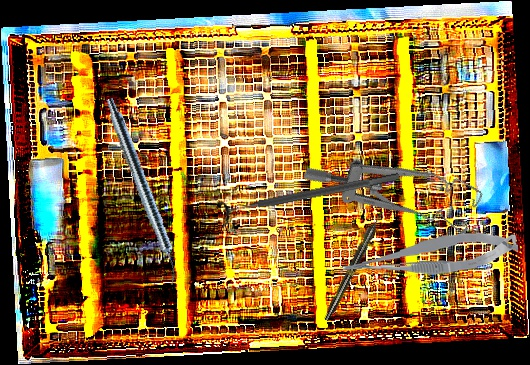Fixation Ring: (215, 162, 403, 229)
Handpiece: (99, 96, 187, 286), (321, 209, 387, 323)
Micro Scissor: (338, 229, 519, 280)
Speculum: (301, 113, 487, 260)
